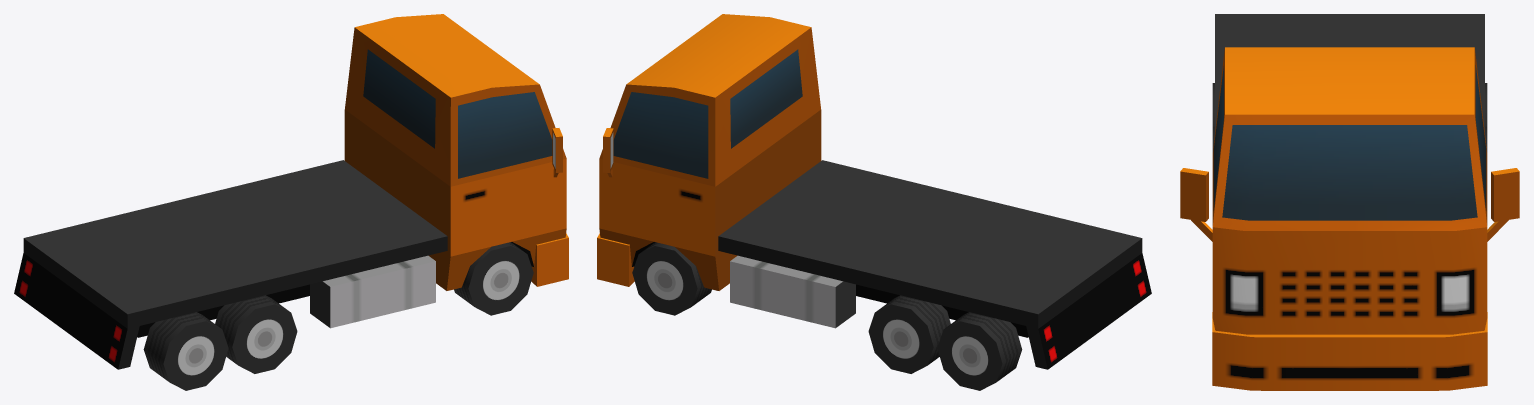
File: Truck_029.glb
3 views of the same model, side by side, from view 1: azimuth 30°, elevation 25°; view 2: azimuth 150°, elevation 25°; view 3: azimuth 270°, elevation 25° (orthographic). The views are drawn at different scales.
Parts seen in each view (by area): view 1: Truck_029, wheel_5_Truck_029_Wheel_3R, wheel_3_Truck_029_Wheel_2R, wheel_1_Truck_029_Wheel_1R; view 2: Truck_029, wheel_4_Truck_029_Wheel_3L, wheel_2_Truck_029_Wheel_2L, wheel_0_Truck_029_Wheel_1L; view 3: Truck_029.
Part boxes in pixels (box(x1,y1,x2,y2)): Truck_029: box(14, 14, 568, 369); wheel_5_Truck_029_Wheel_3R: box(143, 312, 228, 390); wheel_3_Truck_029_Wheel_2R: box(215, 295, 297, 373); wheel_1_Truck_029_Wheel_1R: box(454, 242, 533, 315); Truck_029: box(597, 14, 1151, 369); wheel_4_Truck_029_Wheel_3L: box(937, 312, 1022, 390); wheel_2_Truck_029_Wheel_2L: box(868, 295, 950, 373); wheel_0_Truck_029_Wheel_1L: box(632, 242, 711, 315); Truck_029: box(1180, 14, 1519, 390).
Bounding box in the file's own units: 4.89 × 2.29 × 2.42.
Materials: 1 (1 with a texture image).
